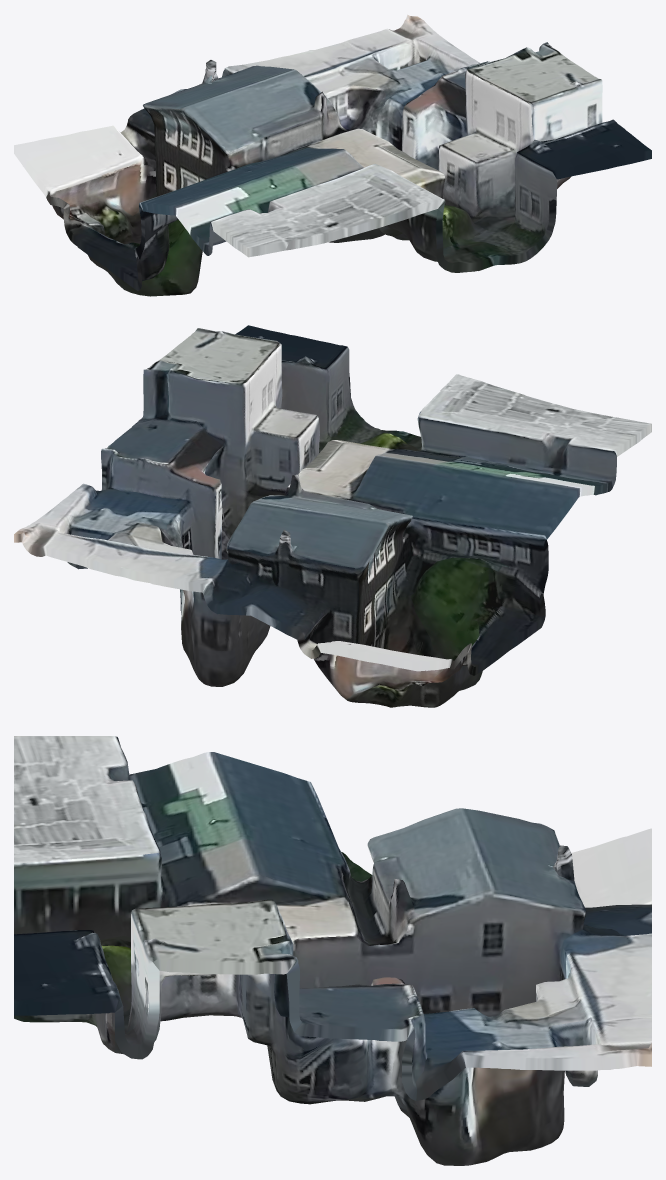
The model's file is z20-167745-405196-h0-yup-uvflip-v3-world.glb.
3 renders of one model, top to bottom at view 1: azimuth 30°, elevation 25°; view 2: azimuth 150°, elevation 25°; view 3: azimuth 270°, elevation 25°, orthographic. The views are drawn at different scales.
Bounding box in the file's own units: 30.16 × 15.44 × 30.32.
1 material, 1 textured.
